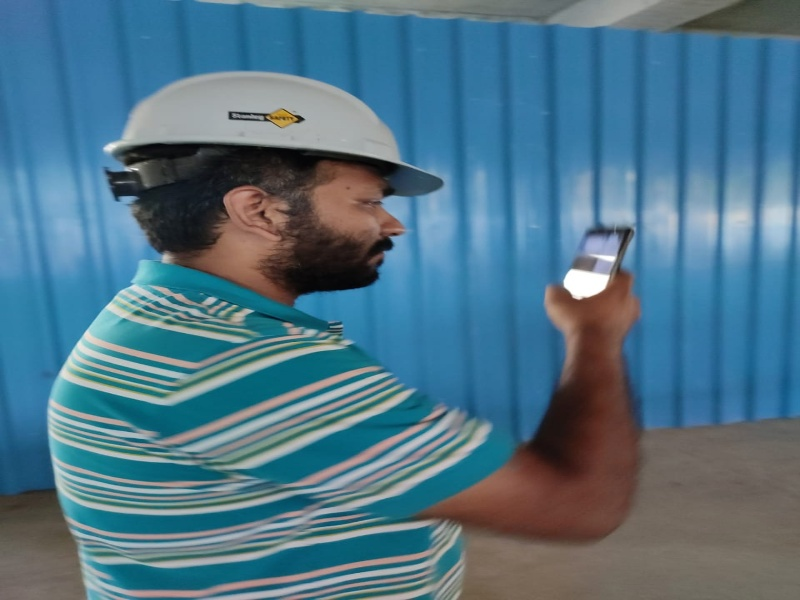Face: (102, 70, 451, 208)
